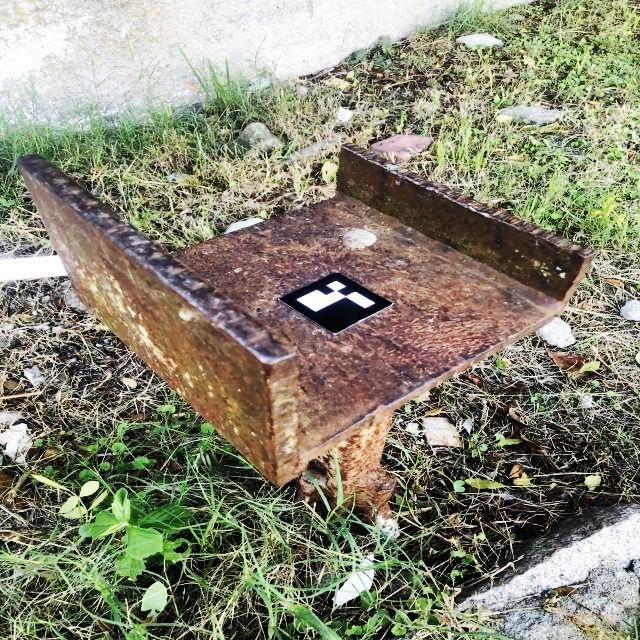Corrosion: (16, 143, 598, 539)
